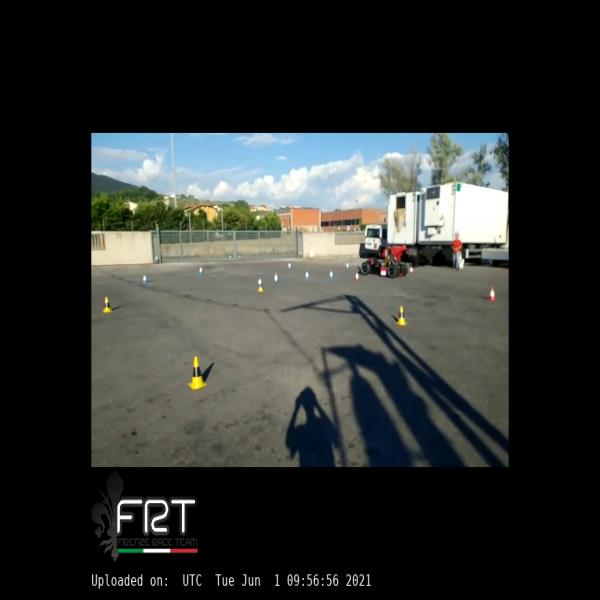blue_cone: (274, 272, 278, 283), (258, 277, 262, 287), (143, 274, 147, 283), (305, 271, 309, 279), (330, 271, 334, 279)
orange_cone: (489, 287, 496, 301), (353, 272, 360, 281), (408, 264, 414, 273)
yellow_cone: (189, 357, 208, 389), (397, 306, 406, 325), (103, 296, 112, 312), (257, 281, 264, 292)
